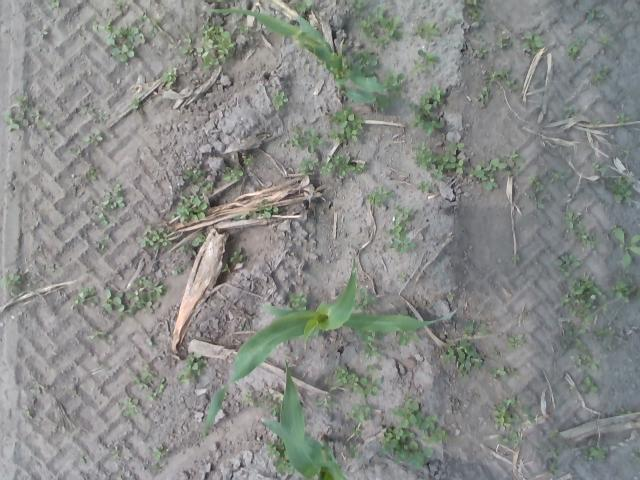Maize: (203, 258, 458, 439), (211, 9, 399, 107), (261, 360, 350, 480)
Weeds: (412, 136, 525, 194), (380, 396, 452, 468), (90, 0, 166, 64), (316, 362, 386, 428), (70, 278, 168, 316), (182, 18, 250, 71), (559, 273, 612, 324), (490, 394, 536, 452), (349, 0, 405, 46), (92, 177, 125, 255), (175, 168, 212, 224), (6, 93, 54, 135), (437, 339, 486, 378), (475, 66, 517, 110), (410, 84, 445, 134), (531, 426, 564, 478), (528, 168, 566, 212), (132, 361, 170, 402), (328, 103, 367, 142), (388, 204, 417, 255), (320, 153, 365, 180), (566, 210, 596, 250), (554, 320, 588, 354), (286, 123, 325, 152), (614, 224, 639, 268), (136, 223, 173, 252), (177, 352, 210, 384), (409, 48, 442, 78), (384, 70, 406, 110), (611, 270, 640, 300), (342, 428, 366, 462), (610, 177, 636, 207), (222, 245, 246, 277), (1, 269, 27, 297), (554, 251, 582, 277), (570, 351, 600, 375), (267, 444, 289, 476), (355, 50, 379, 78), (415, 19, 444, 42), (488, 364, 523, 383), (520, 32, 546, 57), (360, 330, 384, 357), (80, 103, 112, 123), (115, 396, 144, 418), (366, 185, 396, 206), (582, 442, 610, 464), (258, 388, 278, 418), (568, 33, 589, 60), (150, 444, 168, 474), (464, 0, 486, 24), (252, 198, 278, 218), (358, 287, 378, 312), (298, 156, 322, 176), (162, 66, 180, 90), (290, 0, 313, 18), (272, 89, 289, 113), (464, 321, 488, 338), (592, 65, 610, 87), (397, 330, 420, 347), (84, 128, 104, 147), (290, 290, 308, 311), (86, 326, 108, 343), (580, 378, 600, 396), (222, 166, 244, 182), (86, 164, 102, 184), (586, 9, 606, 25), (508, 332, 524, 352), (496, 34, 516, 50), (594, 327, 618, 340), (590, 33, 610, 47), (242, 387, 254, 409), (191, 232, 207, 248), (128, 96, 142, 114), (564, 105, 580, 120), (476, 43, 491, 59), (24, 404, 36, 422), (592, 161, 604, 179), (44, 0, 61, 12), (234, 210, 252, 221), (618, 112, 632, 126), (67, 145, 85, 155), (614, 407, 634, 416), (172, 264, 188, 275), (39, 24, 50, 40), (398, 270, 410, 282), (446, 291, 459, 302), (110, 447, 123, 458), (244, 155, 254, 166), (618, 147, 630, 156), (50, 262, 59, 273), (590, 121, 602, 129), (146, 337, 156, 346), (493, 348, 504, 356), (512, 253, 522, 260), (527, 309, 533, 317)
